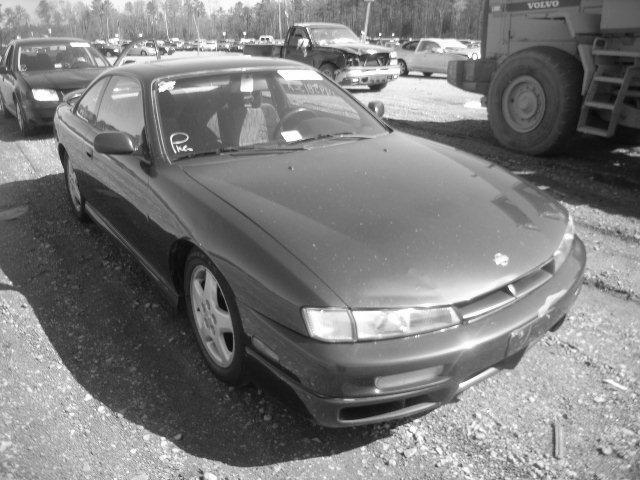car: (49, 51, 590, 433)
